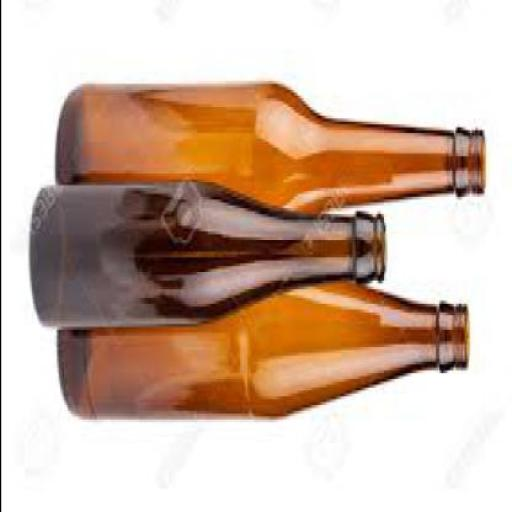glass: (57, 87, 486, 226), (59, 286, 469, 419), (31, 184, 386, 330)
